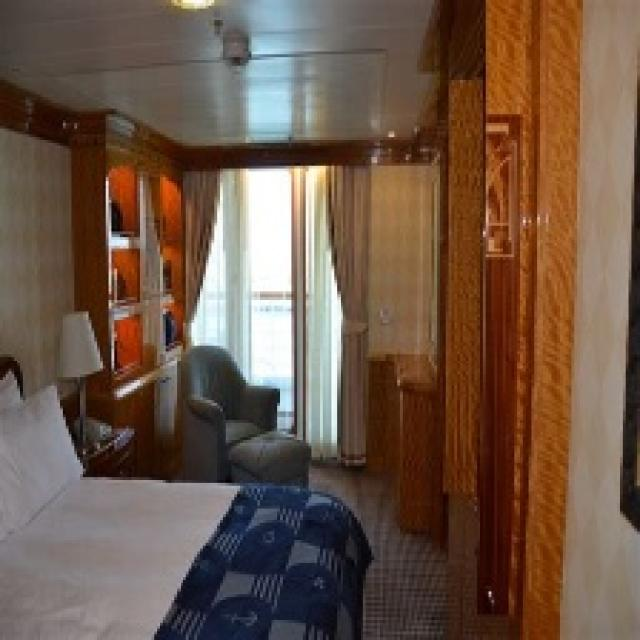Bed: (0, 351, 371, 637)
